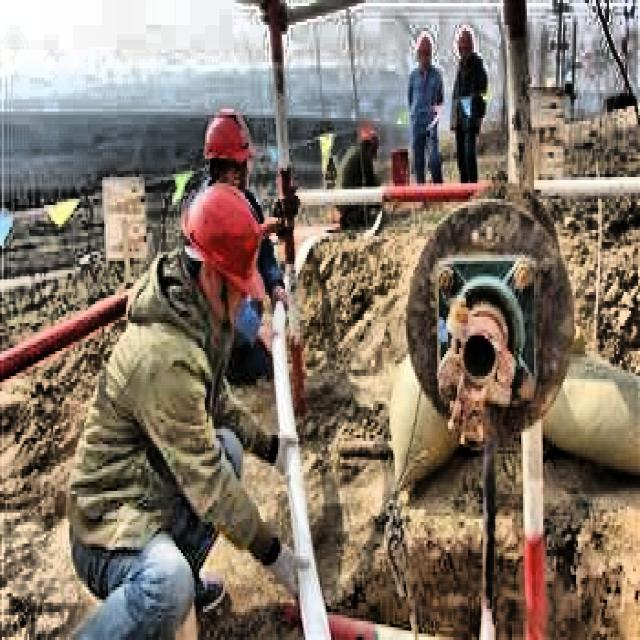helmet: (181, 186, 267, 320), (199, 109, 256, 199), (414, 31, 434, 78), (457, 22, 476, 62)
